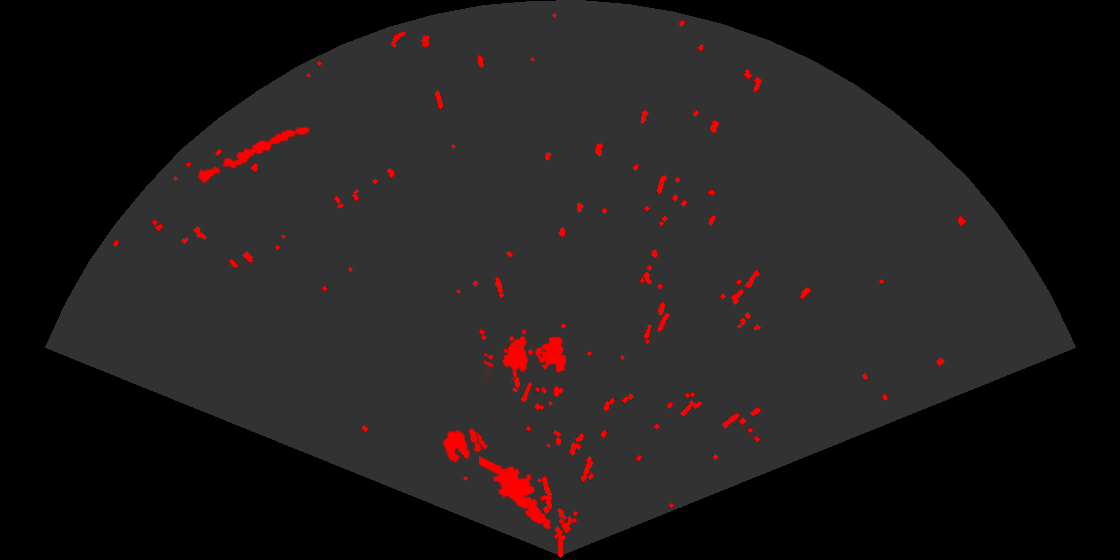ball: (441, 426, 483, 464)
cage: (484, 327, 568, 397)
chain: (195, 125, 312, 185)
frogman: (479, 454, 553, 531)
